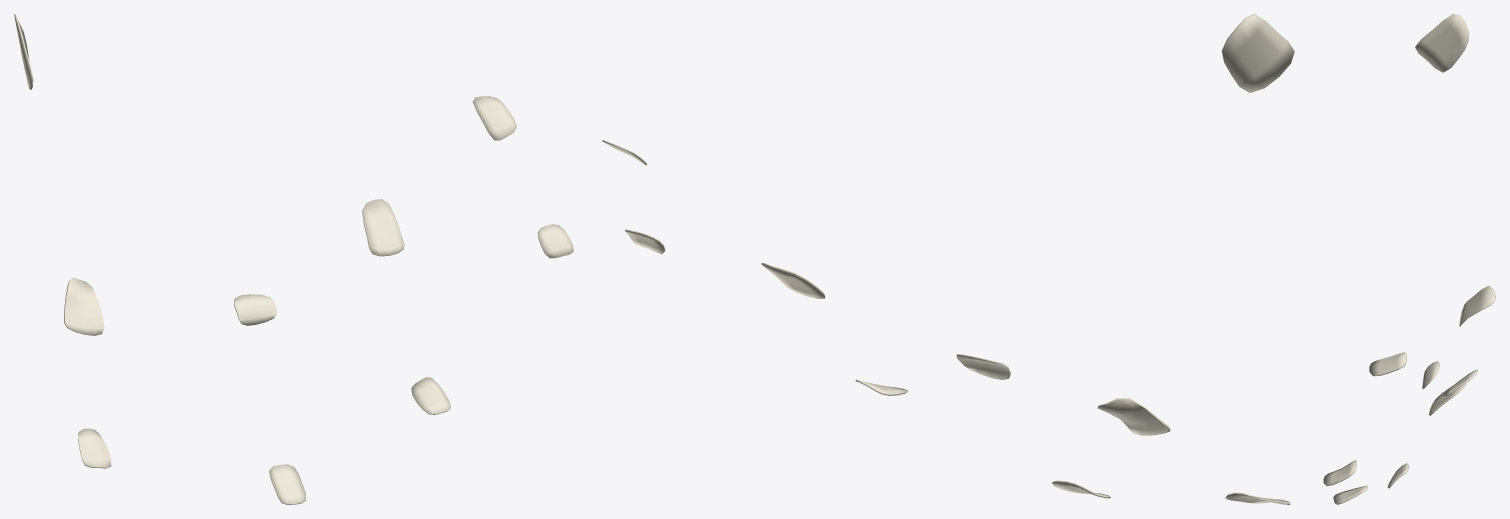
3 views of the same model, side by side, from view 1: azimuth 30°, elevation 25°; view 2: azimuth 150°, elevation 25°; view 3: azimuth 270°, elevation 25° (orthographic). The views are drawn at different scales.
Parts seen in each view (by area): view 1: ZA_66bbaef1ab9748a0; view 2: ZA_66bbaef1ab9748a0; view 3: ZA_66bbaef1ab9748a0.
Part boxes in pixels (x1,y1,x2,y2): ZA_66bbaef1ab9748a0: [14, 14, 573, 504]; ZA_66bbaef1ab9748a0: [602, 14, 1294, 504]; ZA_66bbaef1ab9748a0: [1323, 14, 1495, 504].
Size of the model in its own units: 0.096 by 0.0834 by 0.0335.
